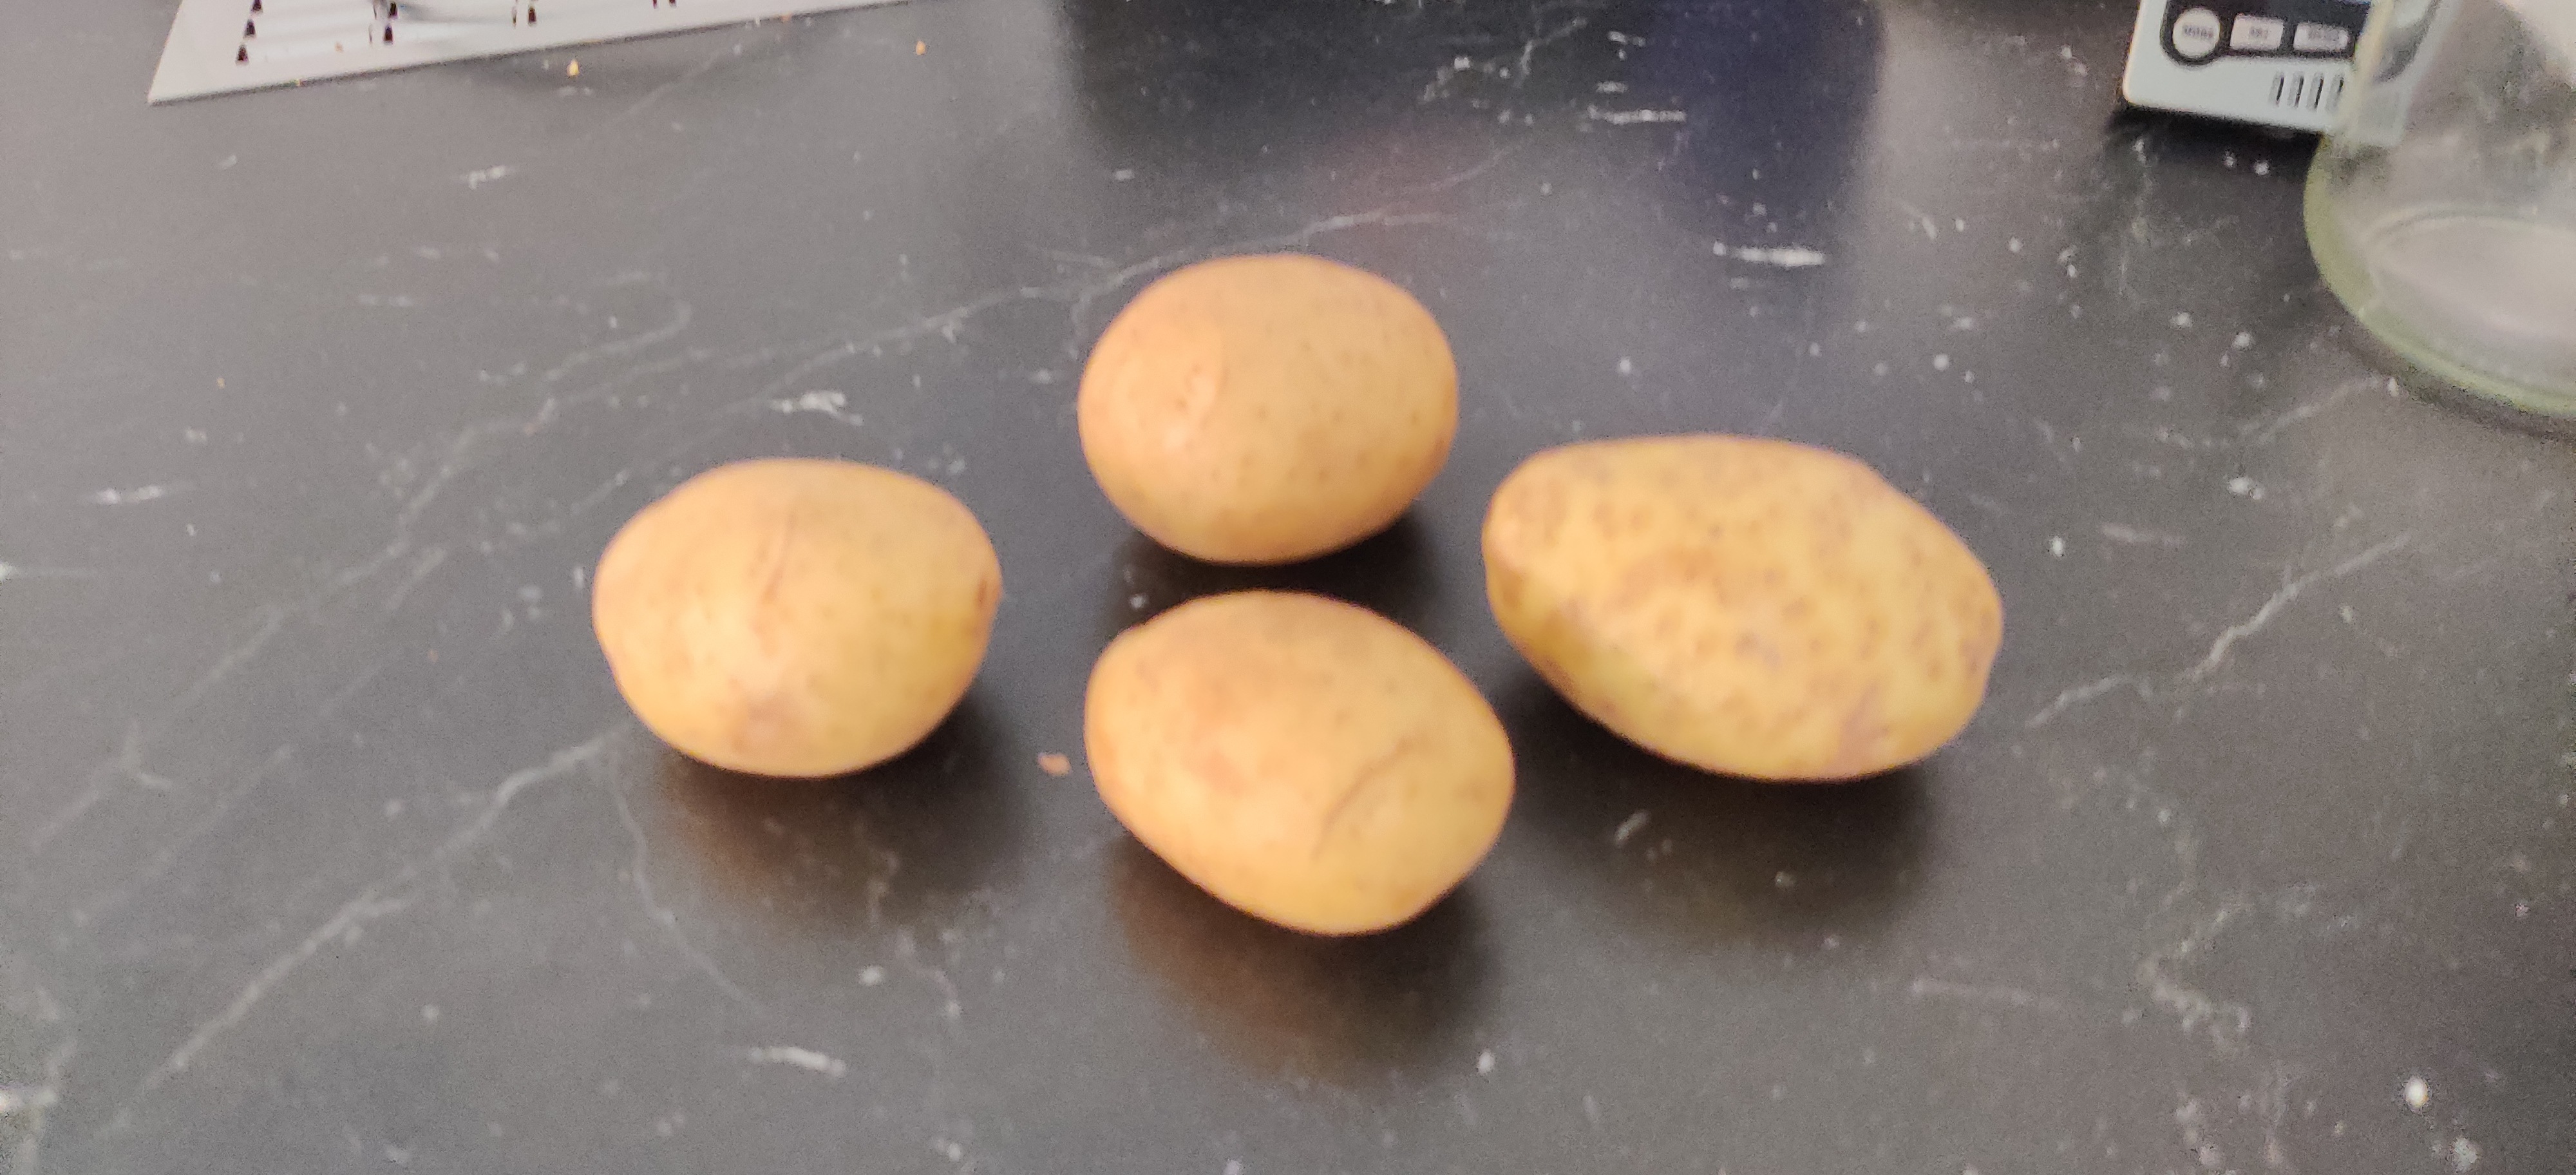Kartoffel: (1482, 431, 2004, 781), (1084, 588, 1516, 942), (590, 458, 1002, 777), (1076, 255, 1462, 562)
